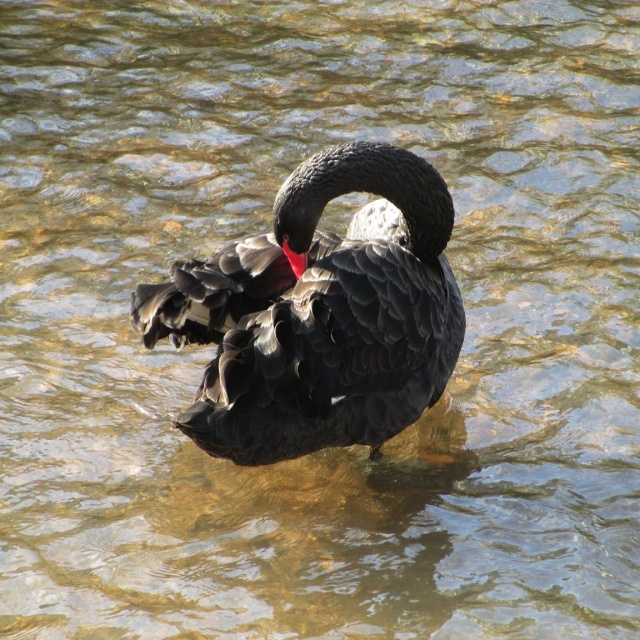Swan: (130, 139, 466, 468)
